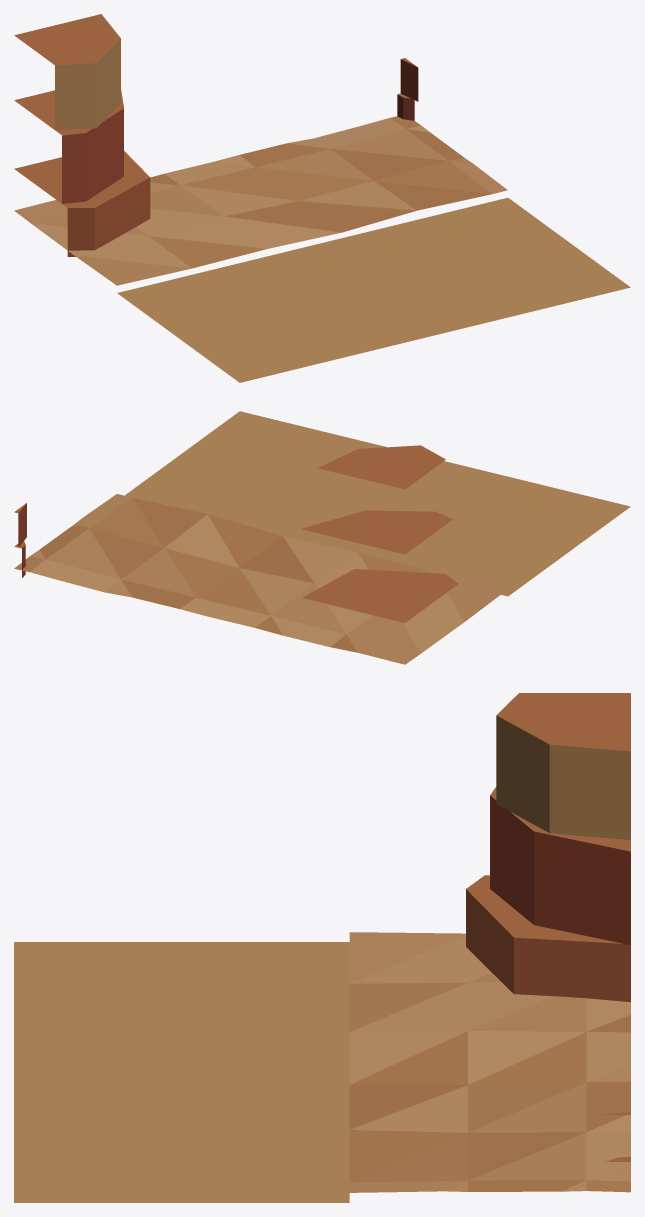
3 renders of one model, top to bottom at view 1: azimuth 30°, elevation 25°; view 2: azimuth 150°, elevation 25°; view 3: azimuth 270°, elevation 25°, orthographic. The views are drawn at different scales.
Visible parts, largest first — view 1: baked; view 2: baked; view 3: baked.
Part boxes in pixels (<box>): baked: <box>14,14,630,382</box>; baked: <box>14,411,630,664</box>; baked: <box>14,693,630,1202</box>.
Size of the model in its own units: 62.5 by 27.84 by 62.5.
